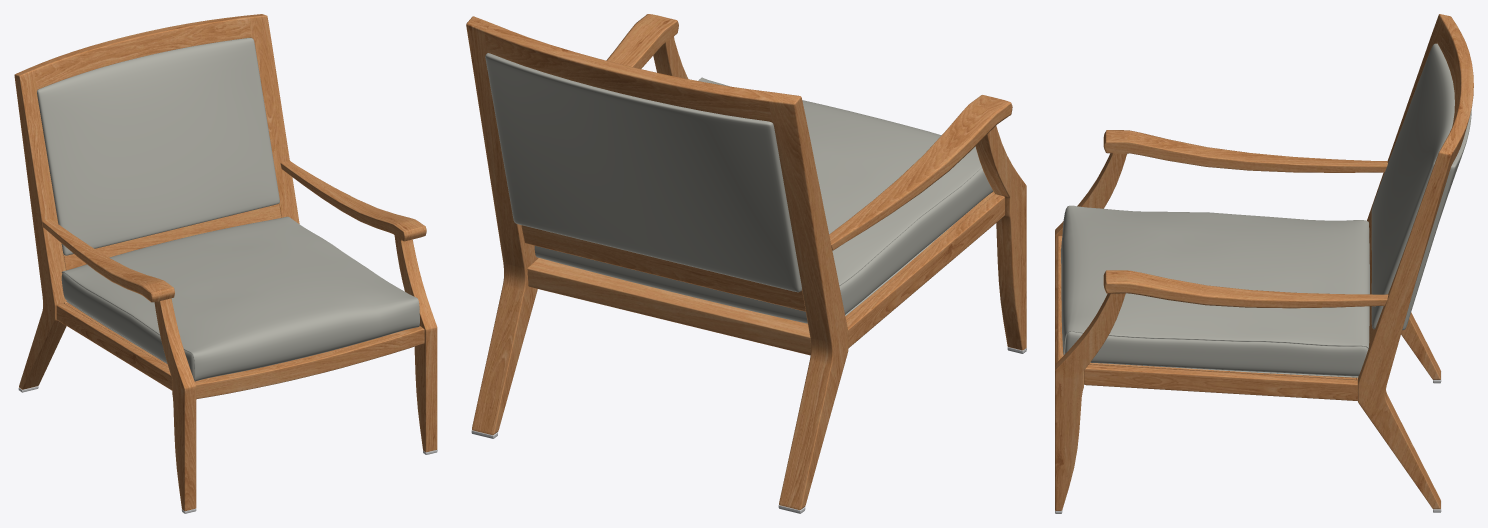
File: wood_chair_test1.fbx
3 renders of one model, left to right at view 1: azimuth 30°, elevation 25°; view 2: azimuth 150°, elevation 25°; view 3: azimuth 270°, elevation 25°, orthographic. The views are drawn at different scales.
Visible parts, largest first — view 1: Porada_Malindi:Box03, Porada_Malindi:objPlane04; view 2: Porada_Malindi:Box03, Porada_Malindi:objPlane04; view 3: Porada_Malindi:Box03, Porada_Malindi:objPlane04.
Part boxes in pixels (box(x1,y1,x2,y2)): Porada_Malindi:Box03: box(37, 38, 419, 381); Porada_Malindi:objPlane04: box(14, 14, 437, 511); Porada_Malindi:Box03: box(485, 53, 993, 323); Porada_Malindi:objPlane04: box(466, 14, 1026, 510); Porada_Malindi:Box03: box(1061, 43, 1471, 377); Porada_Malindi:objPlane04: box(1055, 14, 1473, 510).
Size of the model in its own units: 0.2689 by 0.2949 by 0.3102.
Materials: 3 (1 with a texture image).
